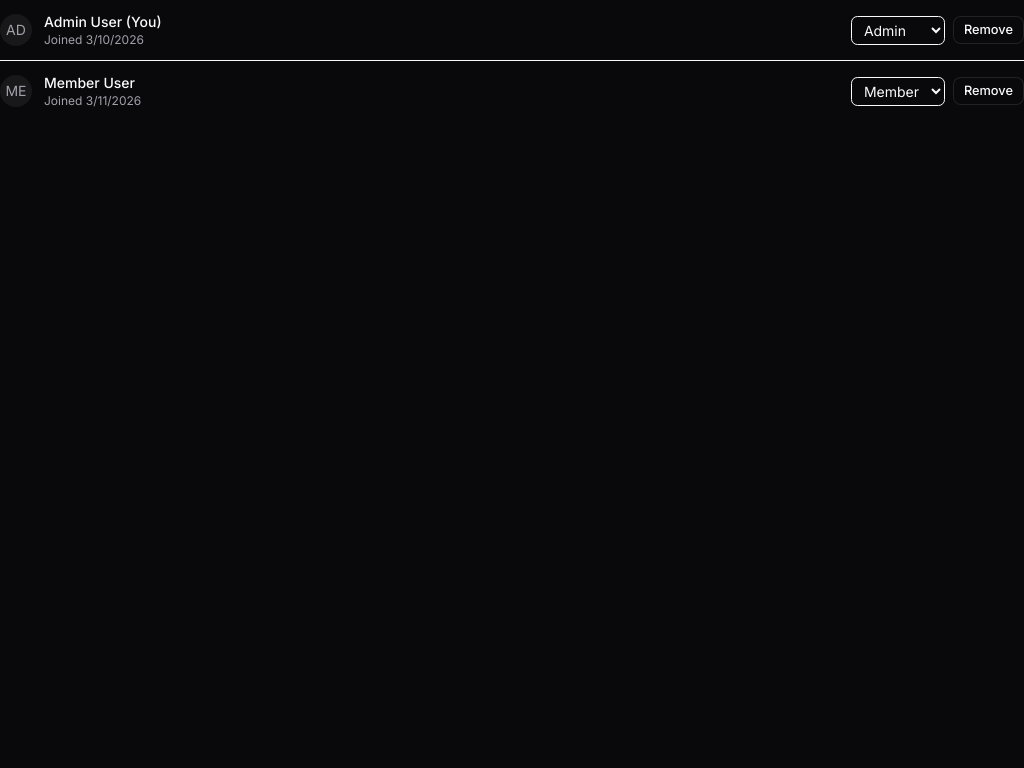
MemberManagementList › optimistically removes member on success
Click the button with aria-label "Remove Member User". click: (988, 91)
box: [953,77,1023,105]
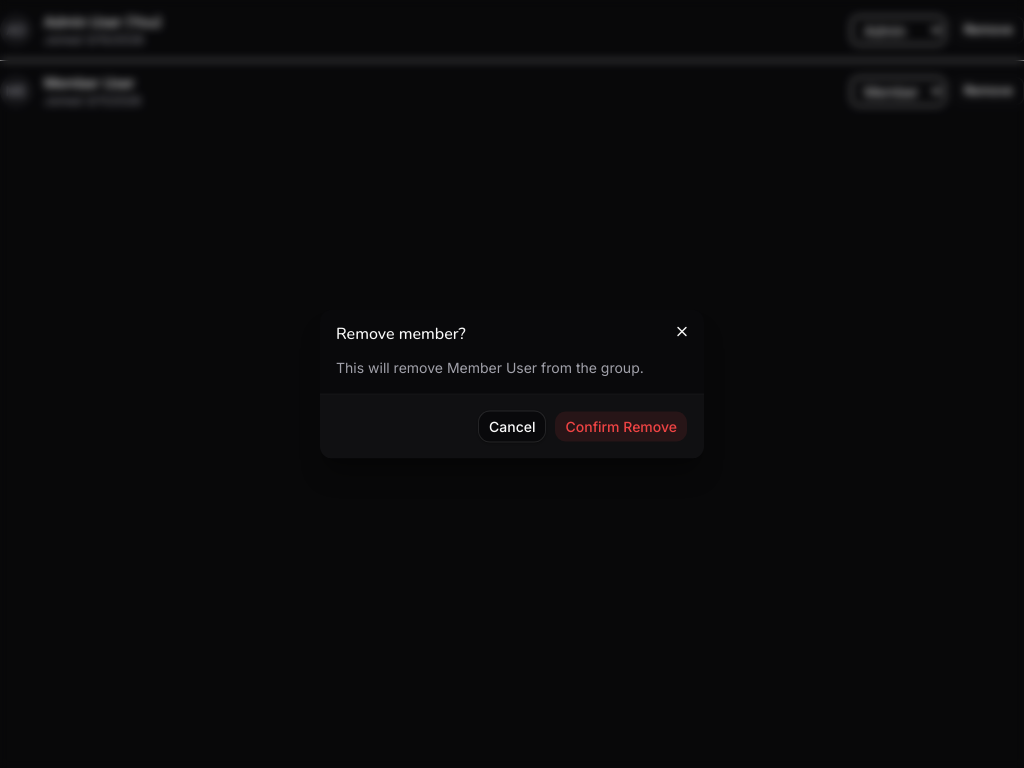
Click the button "Confirm Remove". click: (621, 426)
box: [554,410,688,442]
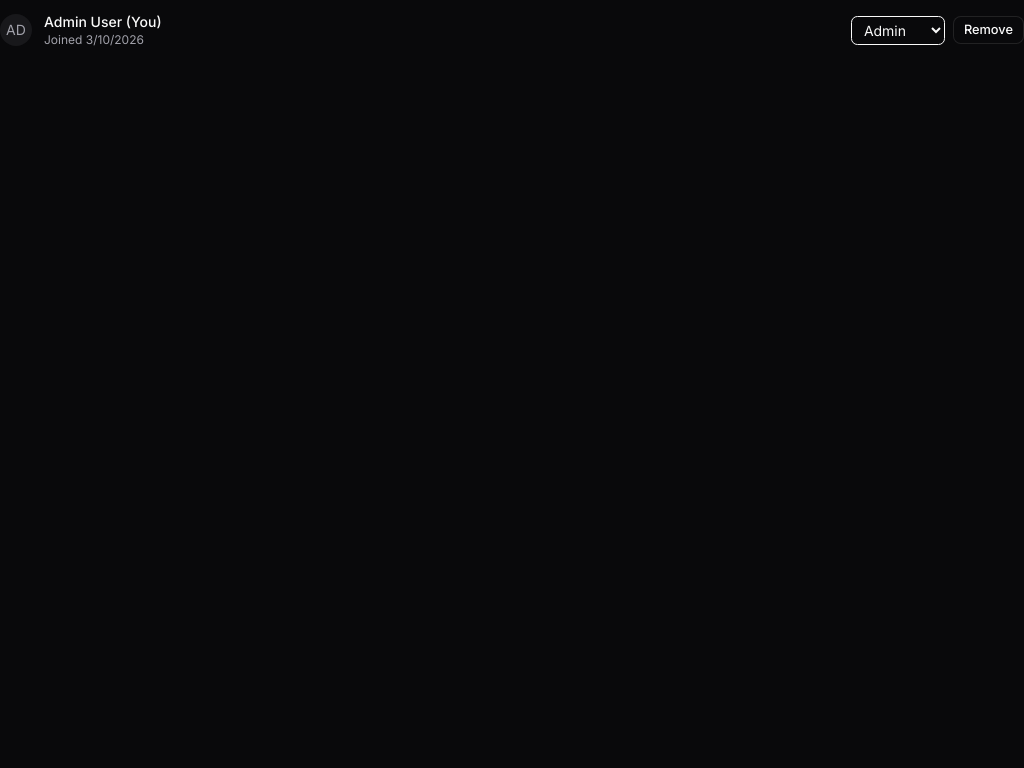
Now the text "Member User" is gone
